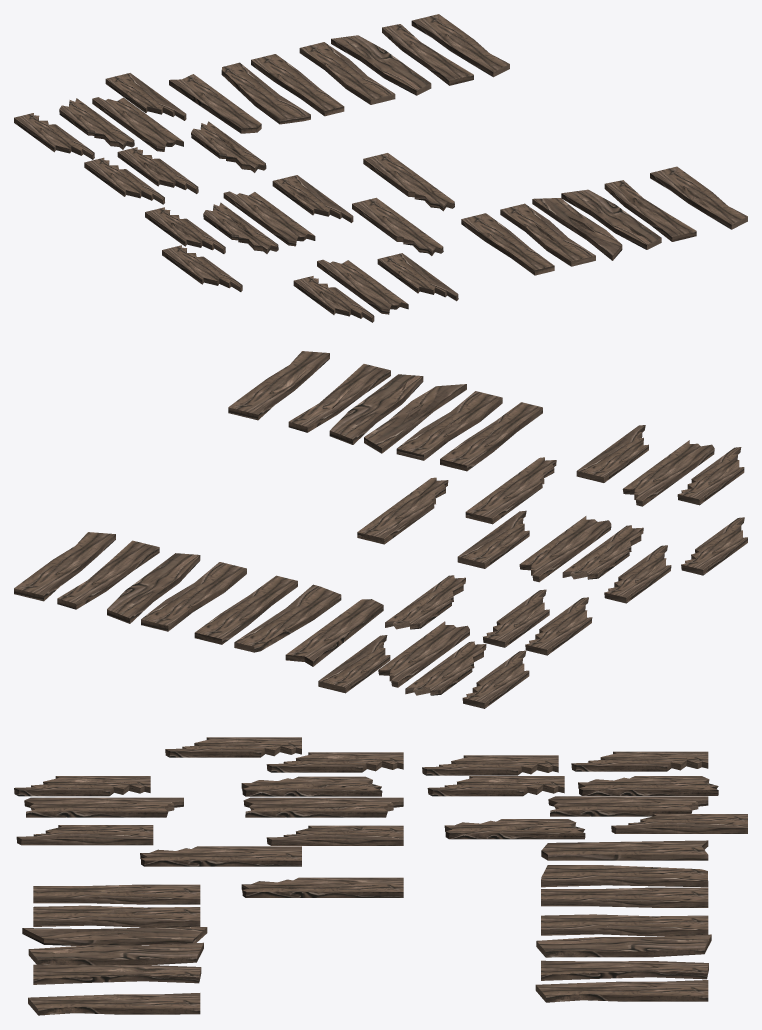
Rendered from PlanksOnly.fbx.
The picture shows the model from 3 angles, top to bottom: view 1: azimuth 30°, elevation 25°; view 2: azimuth 150°, elevation 25°; view 3: azimuth 270°, elevation 25°; orthographic projection. The views are drawn at different scales.
Visible parts, largest first — view 1: Cube.841, Cube.938, Cube.838, Cube.941, Cube.835, Cube.943, Cube.845, Cube.840, Cube.939, Cube.848, Cube.921, Cube.885 (+18 smaller); view 2: Cube.938, Cube.841, Cube.845, Cube.835, Cube.943, Cube.941, Cube.838, Cube.840, Cube.939, Cube.848, Cube.921, Cube.885 (+18 smaller); view 3: Cube.938, Cube.841, Cube.838, Cube.835, Cube.943, Cube.941, Cube.845, Cube.939, Cube.840, Cube.848, Cube.887, Cube.923 (+18 smaller).
Boxes of the visible parts, x1,y1,x2,y2 form: Cube.841: (299,42,395,104); Cube.938: (500,203,595,266); Cube.838: (331,35,431,95); Cube.941: (561,189,661,249); Cube.835: (411,14,509,77); Cube.943: (650,166,747,229); Cube.845: (221,62,310,124); Cube.840: (251,54,344,116); Cube.939: (461,213,554,275); Cube.848: (169,74,261,133); Cube.921: (352,197,443,255); Cube.885: (363,153,454,211); Cube.938: (396,391,502,460); Cube.841: (141,562,246,631); Cube.845: (234,584,341,652); Cube.835: (14,532,115,601); Cube.943: (228,351,329,420); Cube.941: (329,374,423,444); Cube.838: (107,553,200,623); Cube.840: (194,575,297,644); Cube.939: (440,402,542,471); Cube.848: (285,599,383,666); Cube.921: (465,457,556,524); Cube.885: (357,477,448,544); Cube.938: (33,905,200,927); Cube.841: (541,914,708,936); Cube.838: (536,934,711,957); Cube.835: (535,980,708,1002); Cube.943: (28,993,200,1015); Cube.941: (28,942,203,965); Cube.845: (541,865,708,887); Cube.939: (33,884,200,904); Cube.840: (541,887,708,907); Cube.848: (541,840,708,860); Cube.887: (243,797,403,817); Cube.923: (24,797,183,817).
Bounding box in the file's own units: 38.52 × 0.4 × 43.9.
